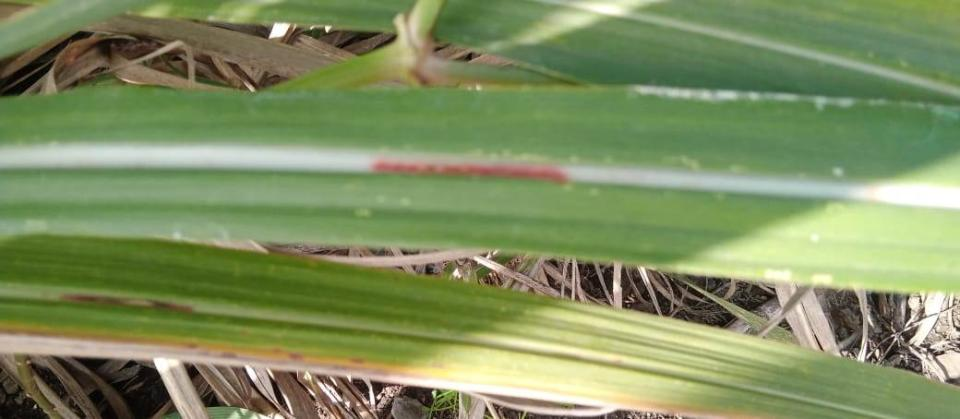RedRot: (370, 158, 572, 179), (58, 295, 193, 311)
